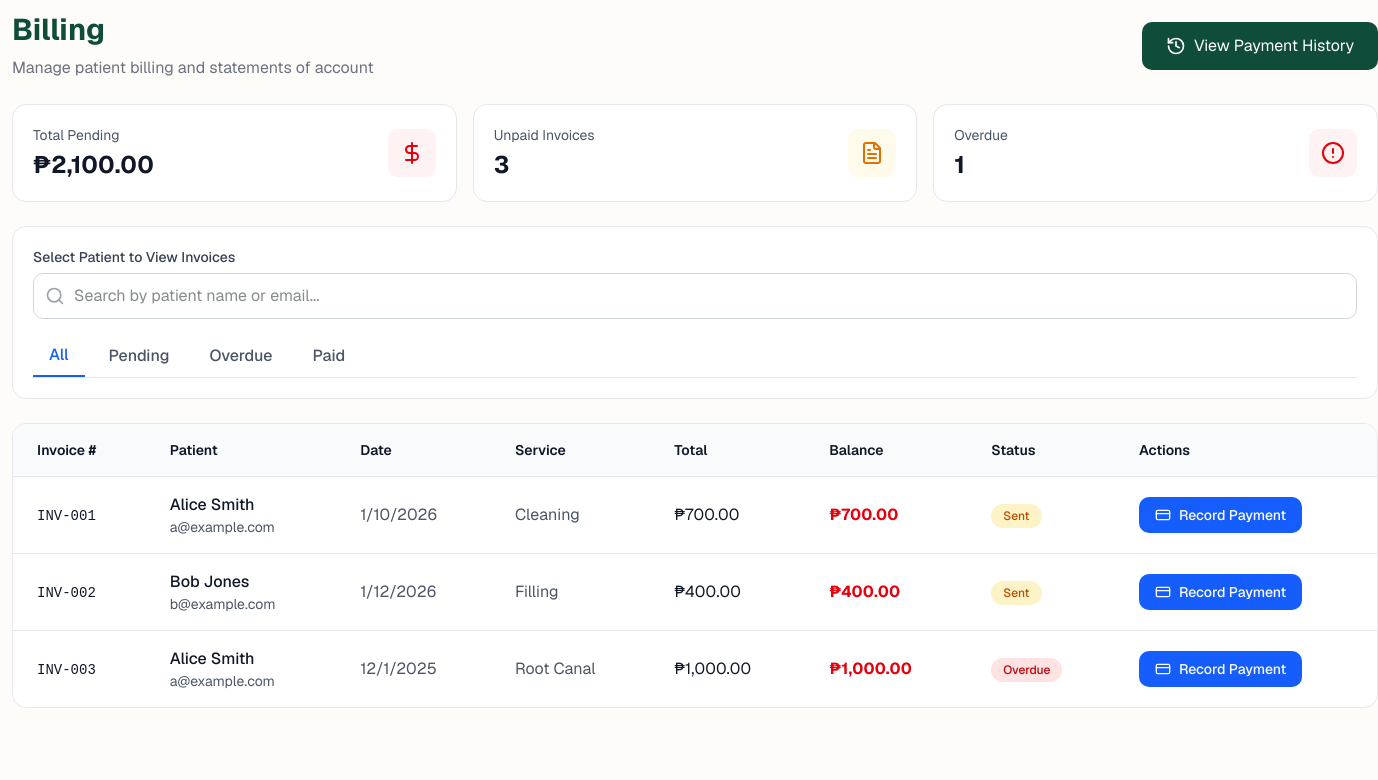
Test: Billing Page — Filtering Logic › 'Pending' tab shows exactly 2 rows (status 'sent')
Click the button "Pending". click: (139, 356)
box: [92,335,186,377]
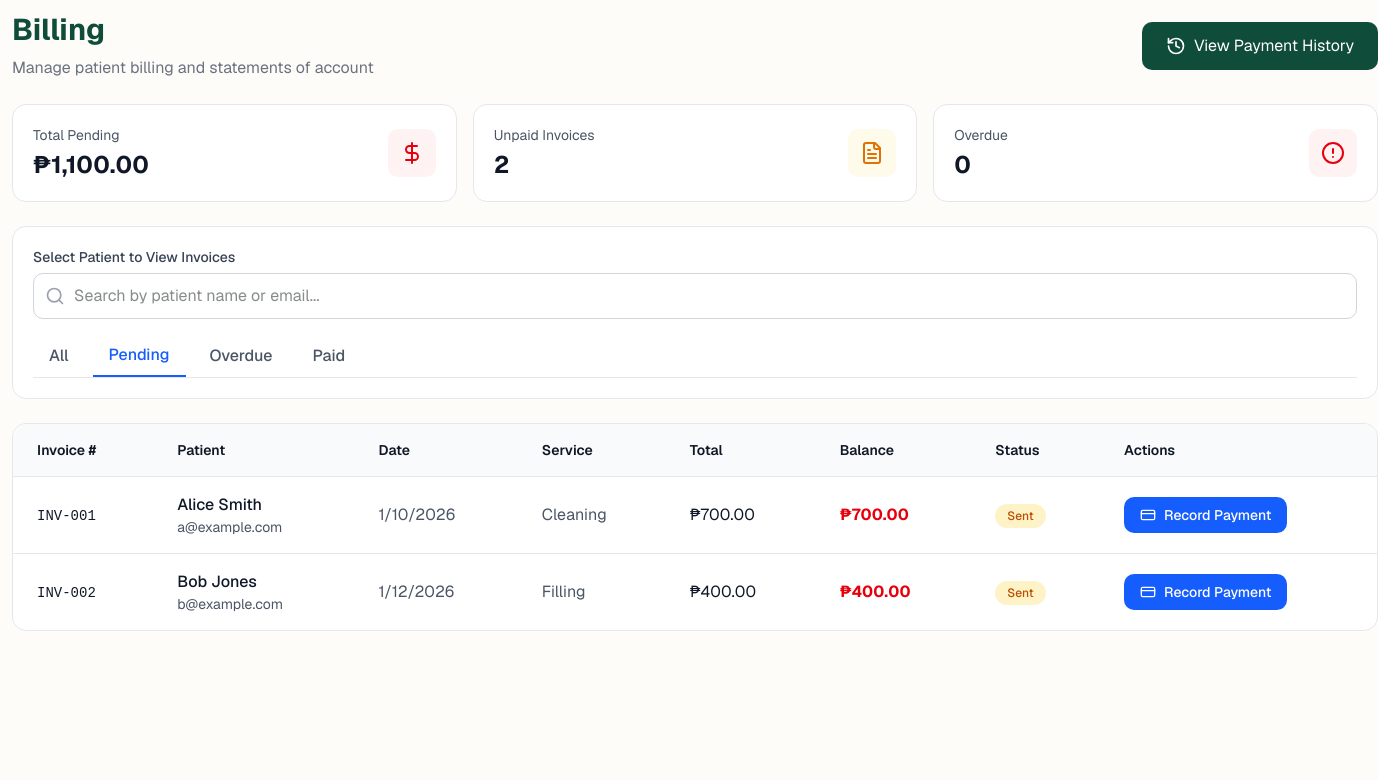
Expected: the button "Pending" has class "border-blue-600", [92,335,186,377]
